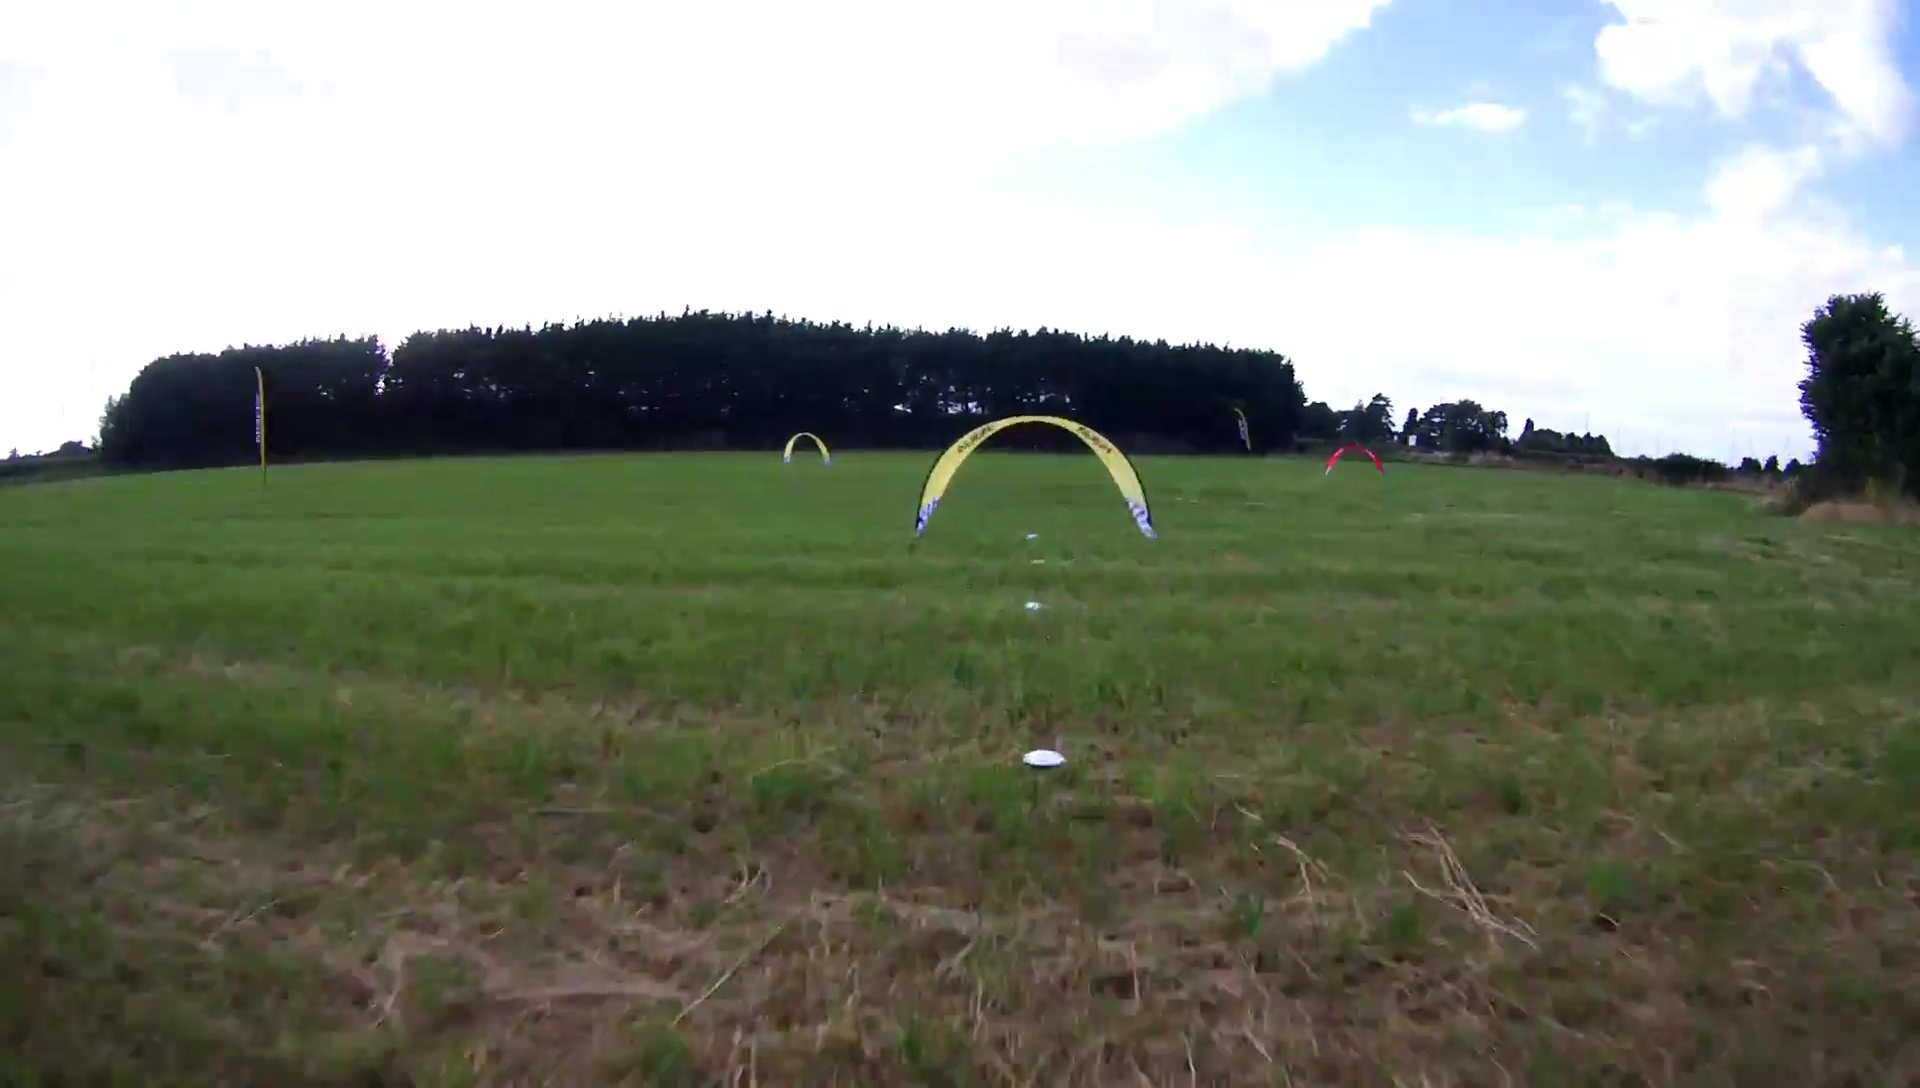gate: (910, 415, 1155, 543), (1323, 444, 1385, 477), (781, 430, 833, 464)
